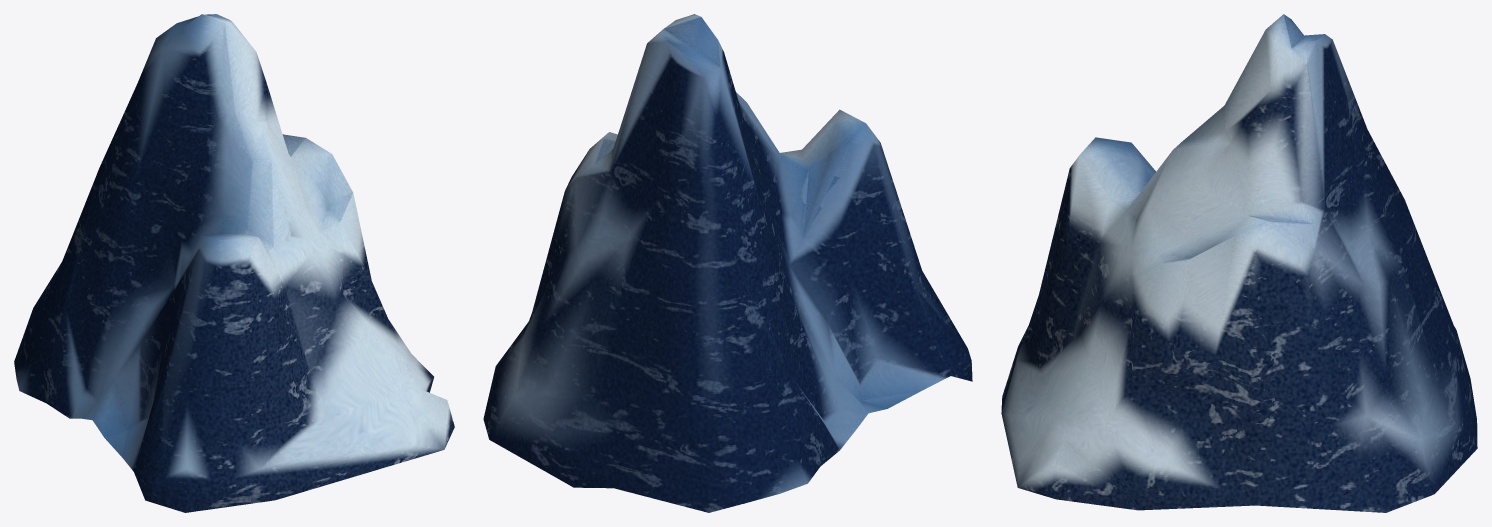
The model's file is mountainv3.gltf.
3 views of the same model, side by side, from view 1: azimuth 30°, elevation 25°; view 2: azimuth 150°, elevation 25°; view 3: azimuth 270°, elevation 25° (orthographic). The views are drawn at different scales.
Parts seen in each view (by area): view 1: Landscape; view 2: Landscape; view 3: Landscape.
Boxes of the visible parts, x1,y1,x2,y2 form: Landscape: (14,14,454,512); Landscape: (483,14,972,512); Landscape: (1001,14,1477,512).
Size of the model in its own units: 245 by 274 by 283.
1 material, 1 textured.
